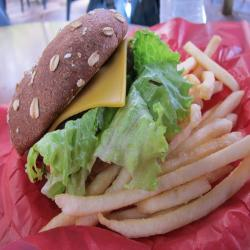burger: (4, 13, 185, 202)
fries: (120, 132, 250, 239)
salad: (122, 32, 189, 196)
